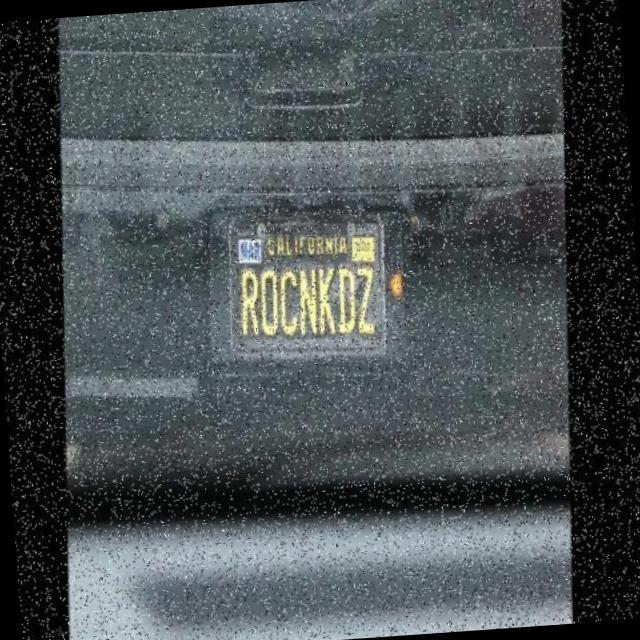LicensePlate: (223, 206, 392, 368)
